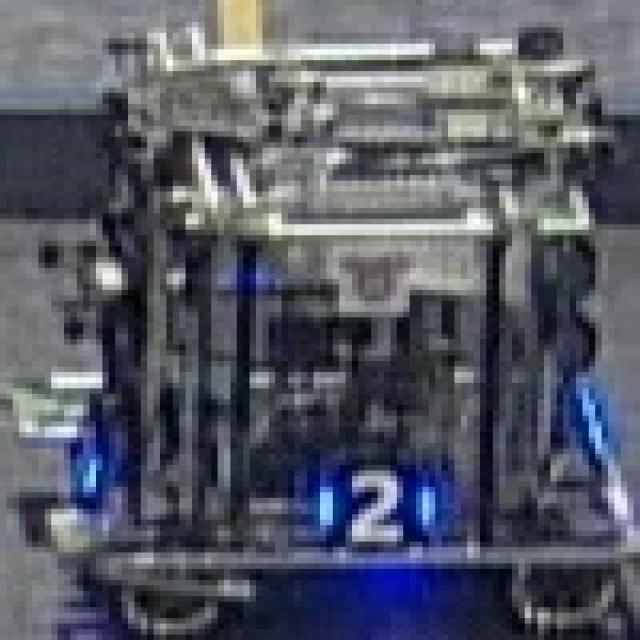B2: (298, 451, 444, 550)
